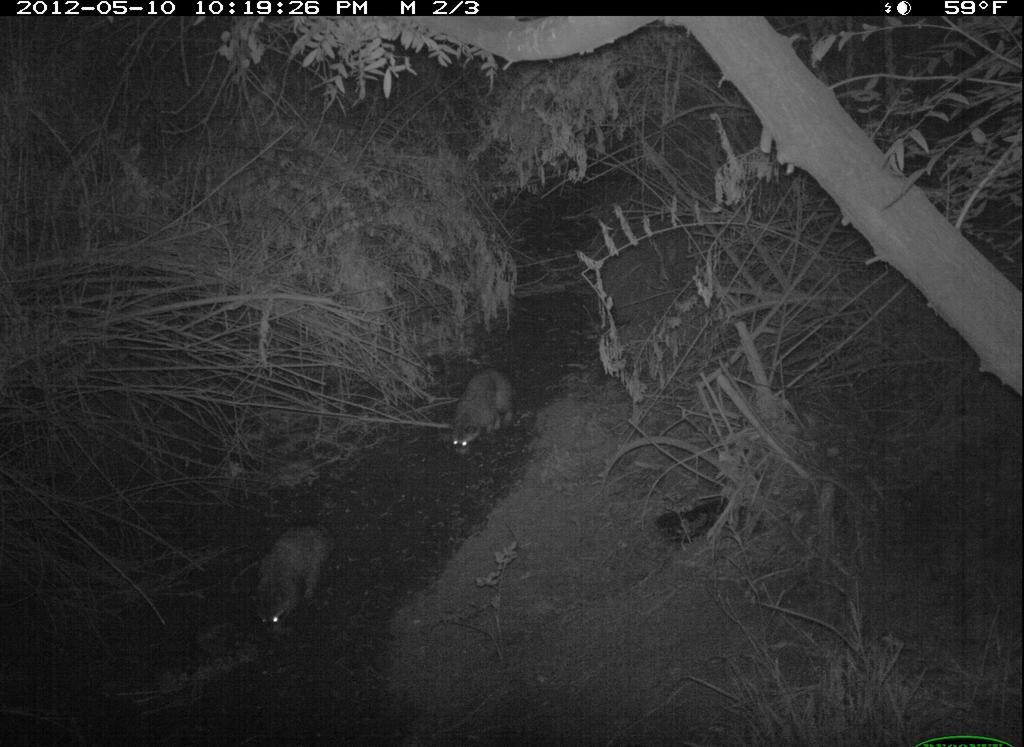raccoon: (248, 520, 344, 641), (436, 361, 529, 465)
